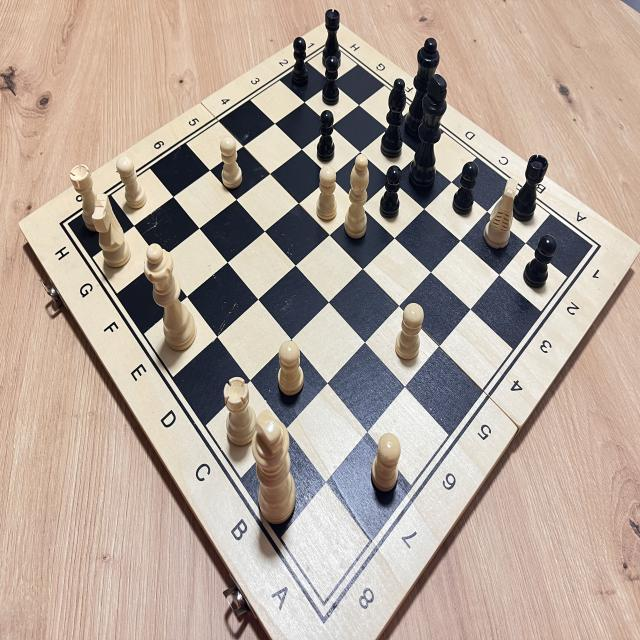black-bishop: (376, 75, 411, 162)
black-king: (406, 67, 453, 206)
black-pawn: (521, 230, 561, 294), (450, 156, 482, 222), (376, 163, 408, 227), (310, 107, 342, 166), (284, 32, 314, 93), (320, 51, 348, 108)
black-queen: (407, 29, 447, 152)
black-rook: (506, 146, 554, 230), (316, 1, 348, 76)
white-bishop: (341, 147, 374, 242)
white-king: (247, 400, 304, 544)
white-knight: (89, 190, 132, 272), (481, 175, 520, 255)
white-pawn: (366, 424, 406, 505), (272, 332, 308, 406), (211, 130, 250, 196), (392, 296, 428, 367), (113, 151, 151, 214), (312, 161, 343, 227)
white-queen: (137, 237, 202, 359)
white-rook: (215, 365, 261, 453), (67, 156, 111, 238)
